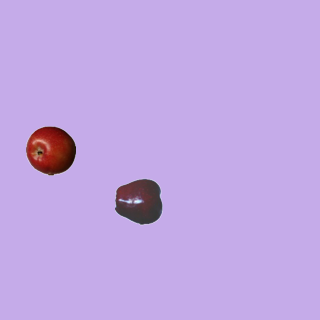Apple Braeburn: (25, 125, 75, 175)
Apple Red Delicious: (114, 176, 164, 226)
